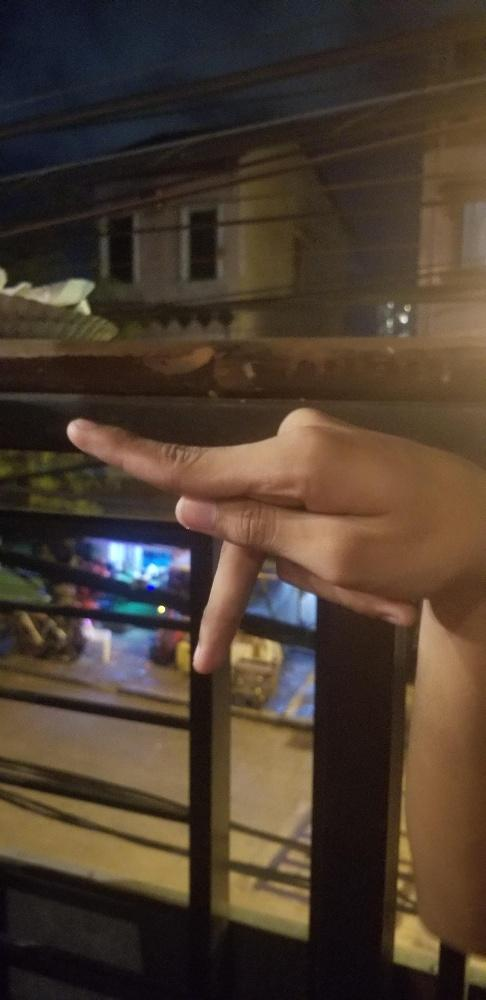p: (64, 405, 485, 675)
